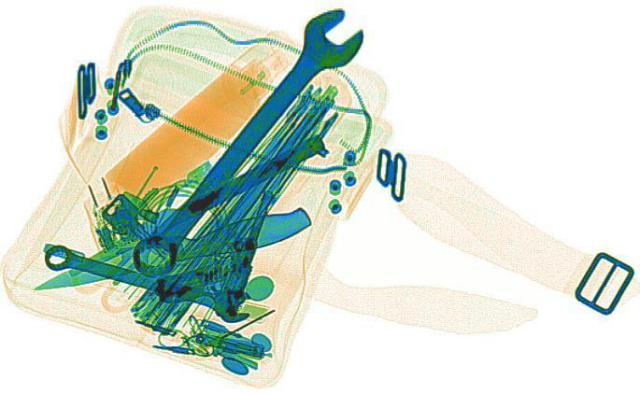Gun: (150, 182, 272, 311)
Knife: (56, 134, 330, 278), (17, 197, 321, 302)
Wrench: (117, 2, 381, 279), (30, 237, 262, 322)
